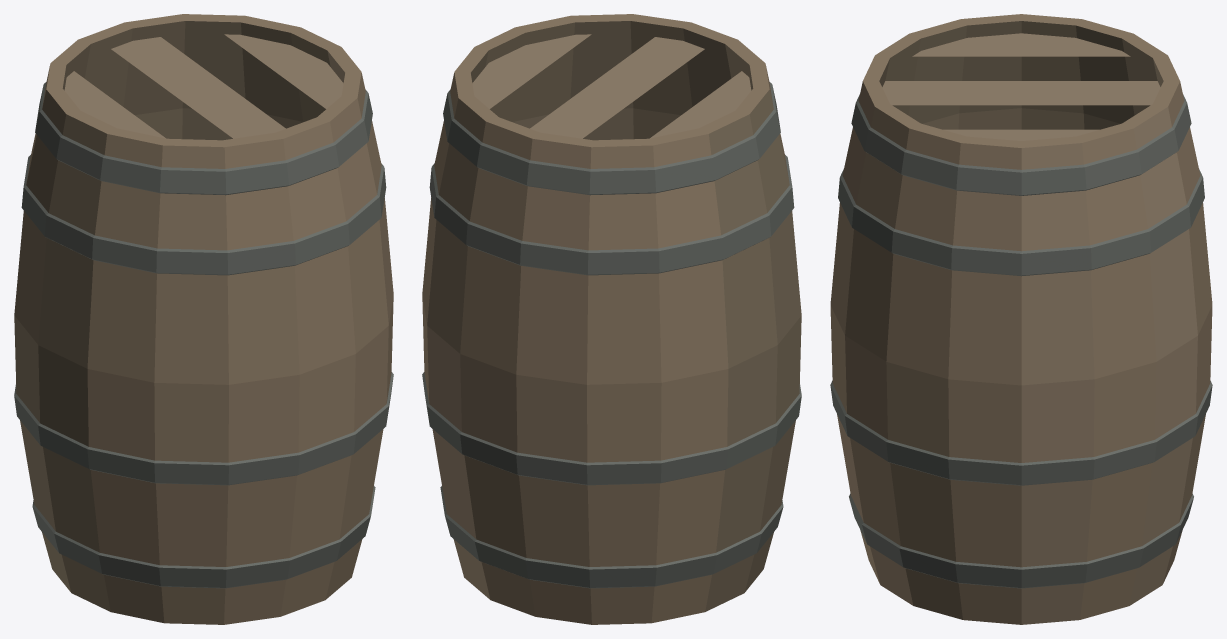
The model's file is env_barrel_v08_partial_lid.glb.
3 renders of one model, left to right at view 1: azimuth 30°, elevation 25°; view 2: azimuth 150°, elevation 25°; view 3: azimuth 270°, elevation 25°, orthographic.
Parts seen in each view (by area): view 1: material_0, material_2, material_3, material_5; view 2: material_0, material_2, material_3, material_5; view 3: material_0, material_5, material_3, material_2.
Boxes of the visible parts, x1,y1,x2,y2 form: material_0: (26,14,393,624); material_2: (14,21,344,611); material_3: (14,82,393,588); material_5: (64,34,343,138); material_0: (422,14,789,624); material_2: (471,21,801,611); material_3: (422,82,801,588); material_5: (427,34,751,599); material_0: (830,14,1212,624); material_5: (882,33,1197,624); material_3: (830,94,1212,588); material_2: (879,21,1163,129).
Size of the model in its own units: 0.6505 by 0.9 by 0.6505.
